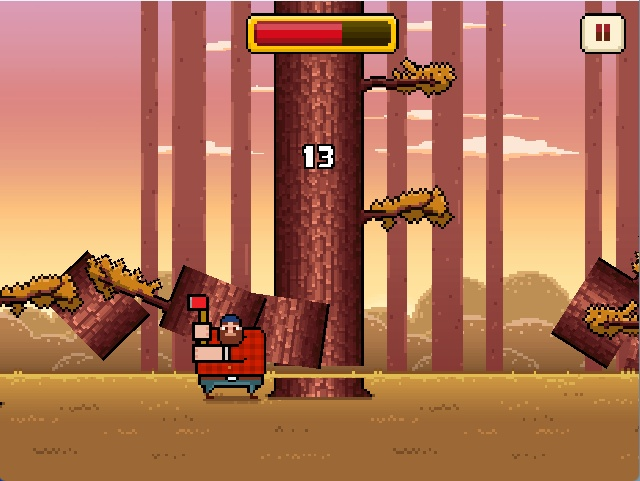right_obs: (185, 292, 271, 404), (361, 180, 457, 238), (362, 55, 463, 107)
